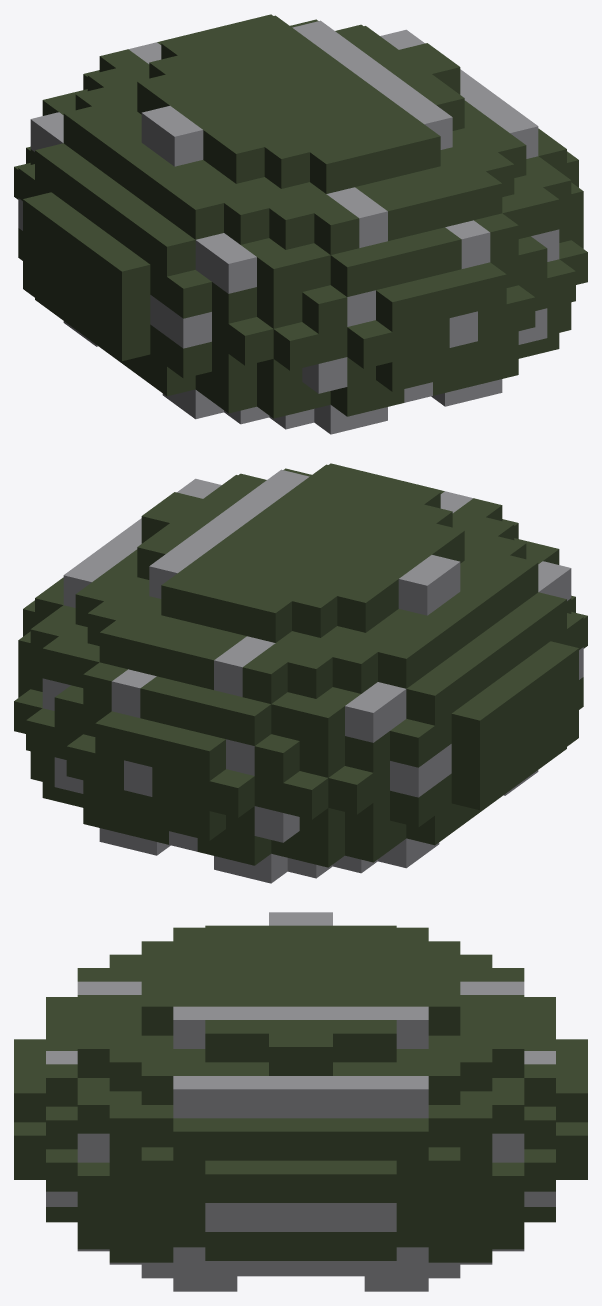
The model's file is cloth_common_shoulder_L.glb.
3 renders of one model, top to bottom at view 1: azimuth 30°, elevation 25°; view 2: azimuth 150°, elevation 25°; view 3: azimuth 270°, elevation 25°, orthographic. The views are drawn at different scales.
Visible parts, largest first — view 1: cloth_common_shoulder_L; view 2: cloth_common_shoulder_L; view 3: cloth_common_shoulder_L.
Boxes of the visible parts, <box> form: cloth_common_shoulder_L: <box>14,14,587,434</box>; cloth_common_shoulder_L: <box>14,463,587,883</box>; cloth_common_shoulder_L: <box>14,912,587,1291</box>.
Bounding box in the file's own units: 0.192 × 0.096 × 0.216.
